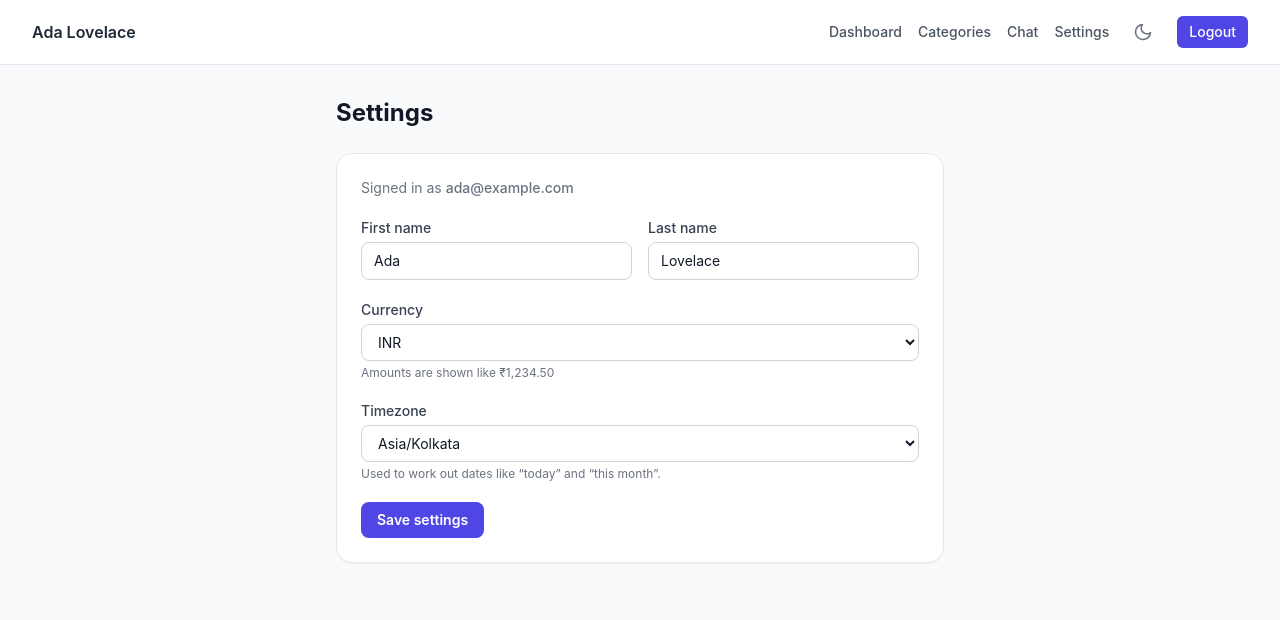
Test case: SettingsPage › requires a first name
Clear the field labelled "First name" at (496, 261), box [361,242,632,280]
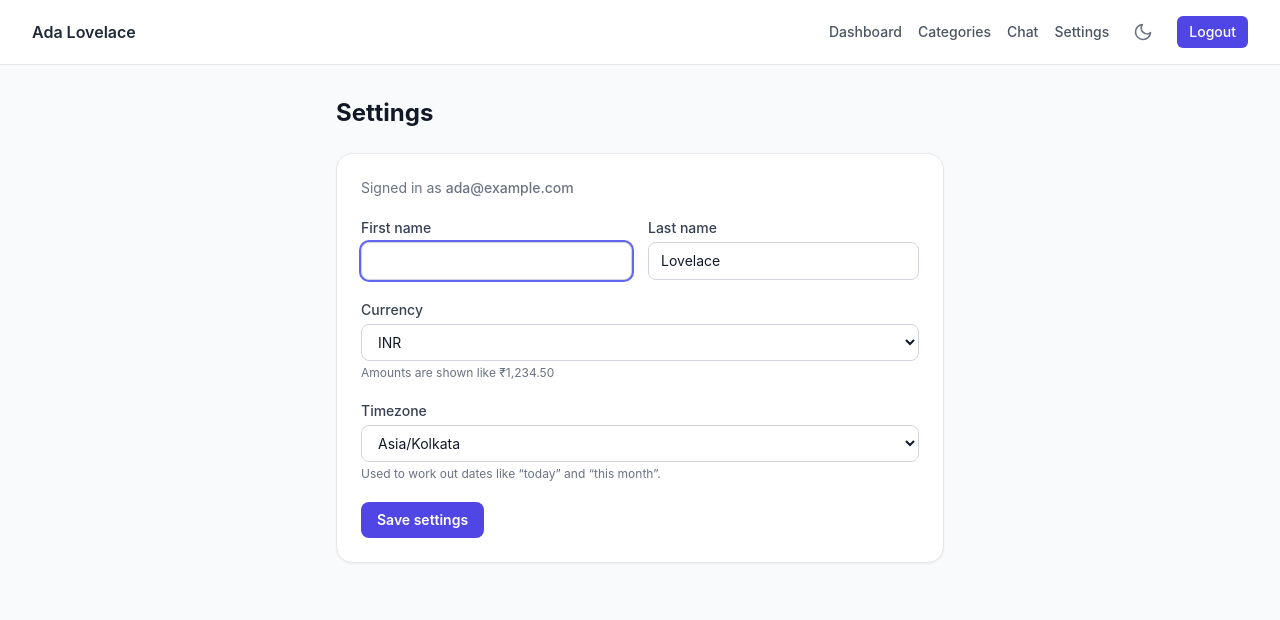
Click the button "Save settings" at (423, 520), box [361,502,484,538]
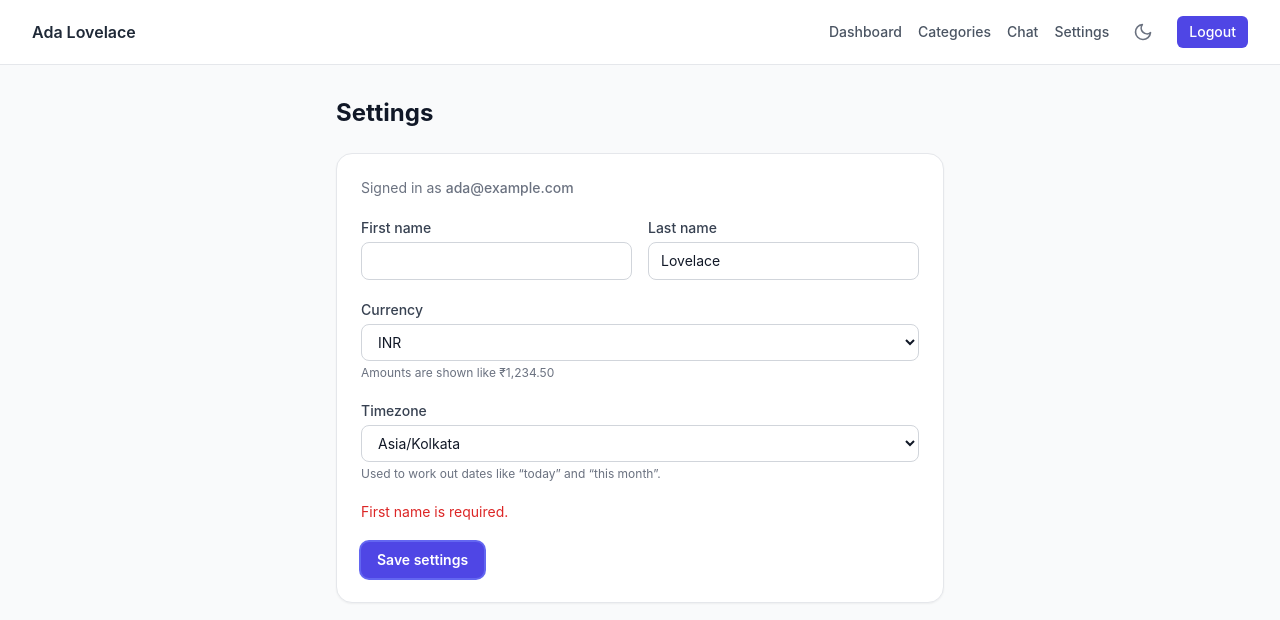
Now the message reads "First name is required.", box [361,503,508,520]
